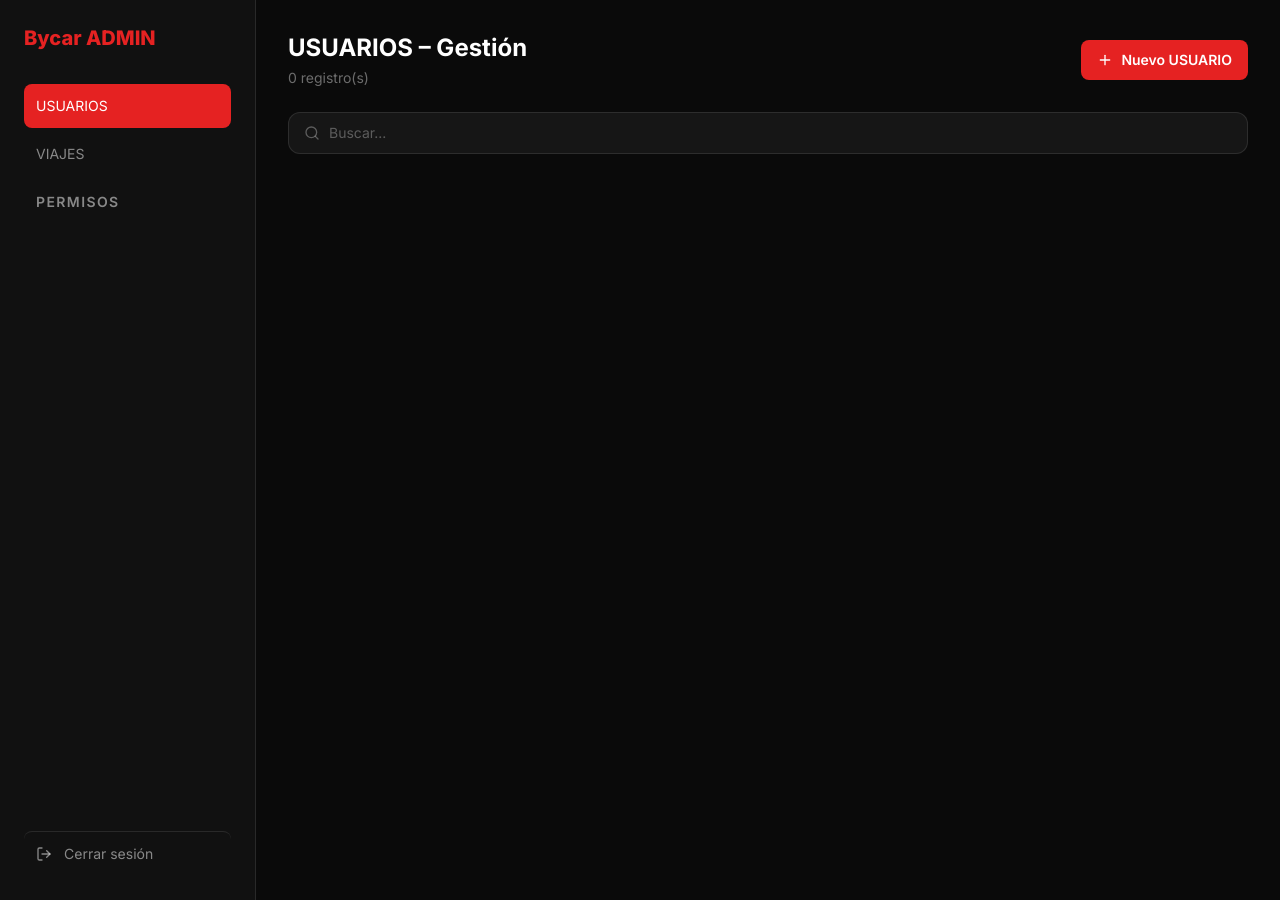
Test case: AdminPage ante errores de la API (F27) › si falla la metadata, abrir "Nuevo" no rompe el formulario
Click the button "Nuevo USUARIO" at (1165, 60), box x1=1081 y1=40 x2=1248 y2=80
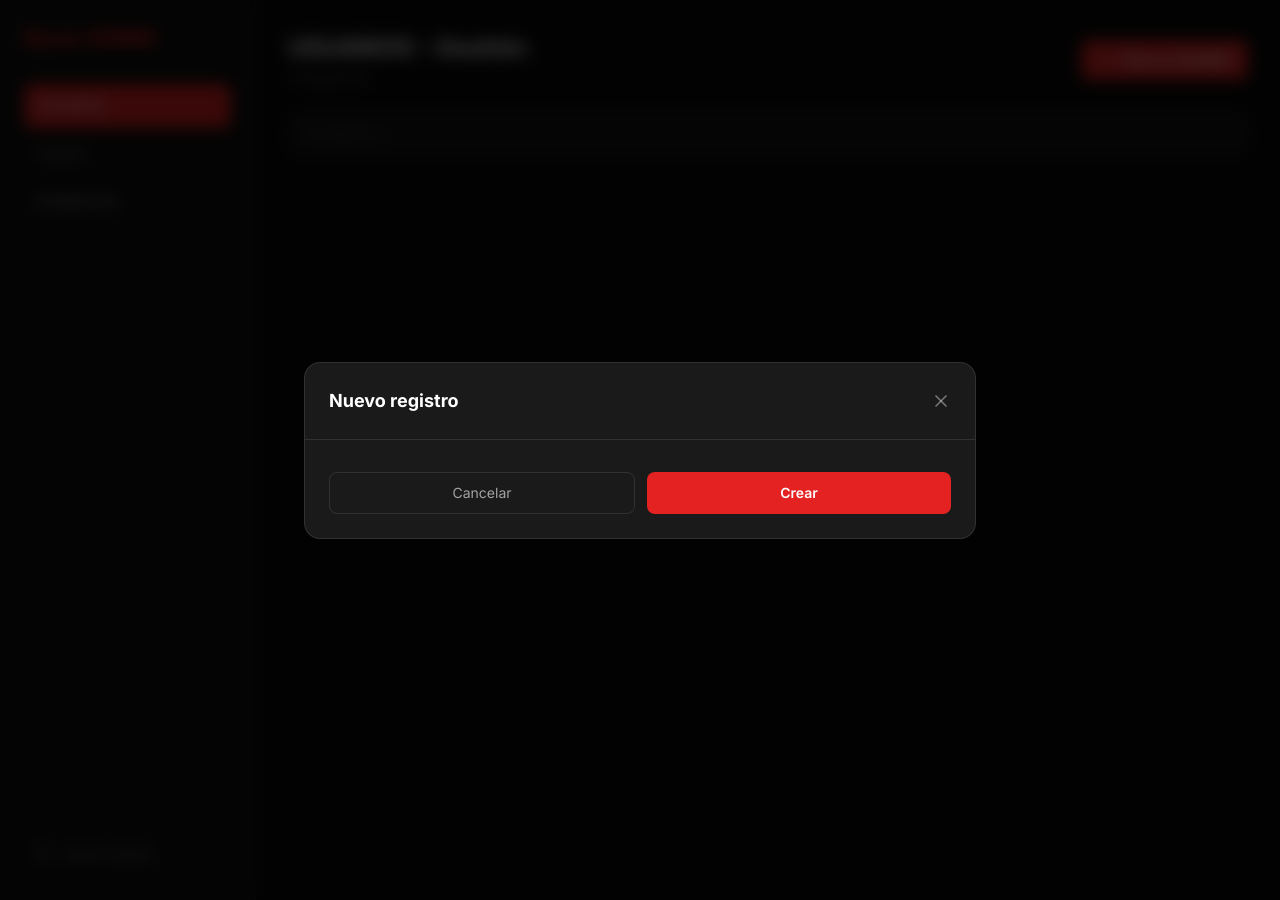
Now the heading "Nuevo registro" is shown, box x1=329 y1=386 x2=459 y2=414
